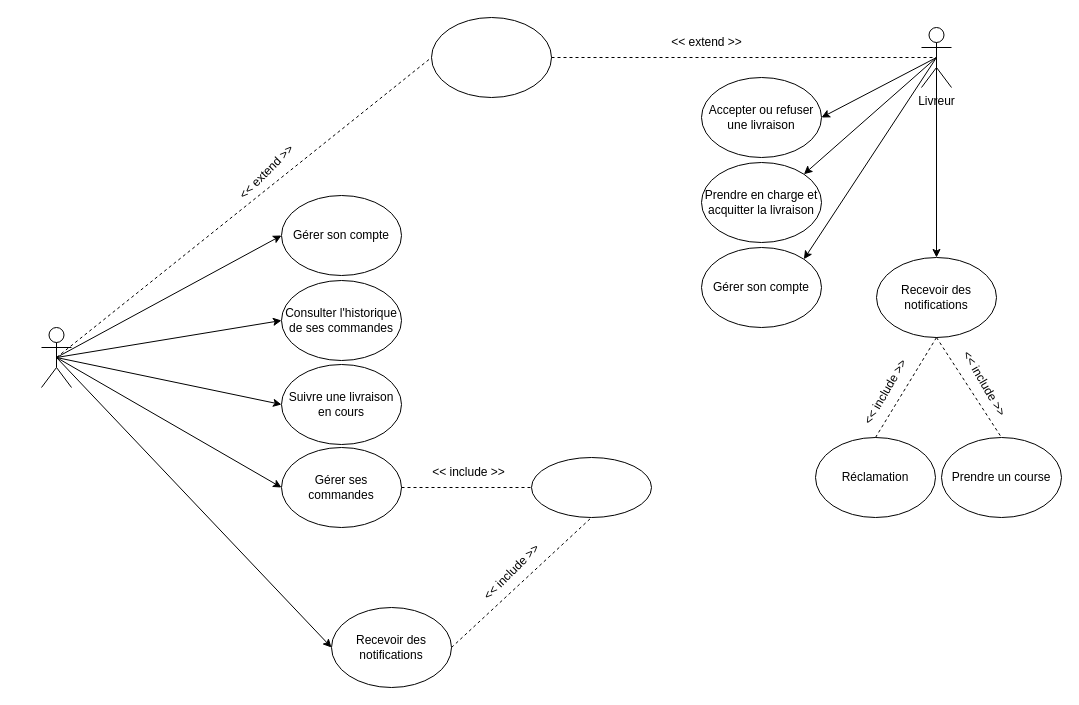
Image size: 1079x705. Some labels were removed from this diagram. Here are the shapes that lost their labels. From the top down, the box of each, then its label:
(430, 16, 552, 98): Parrainer un ami
(40, 326, 72, 388): Utilisateur final
(530, 456, 652, 518): Payer une commande
